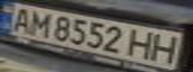2: (103, 24, 127, 55)
5: (84, 20, 109, 52), (66, 17, 90, 46)
8: (48, 14, 72, 43)
A: (6, 4, 36, 34)
H: (127, 28, 160, 60), (148, 33, 181, 64)
M: (24, 9, 54, 38)
